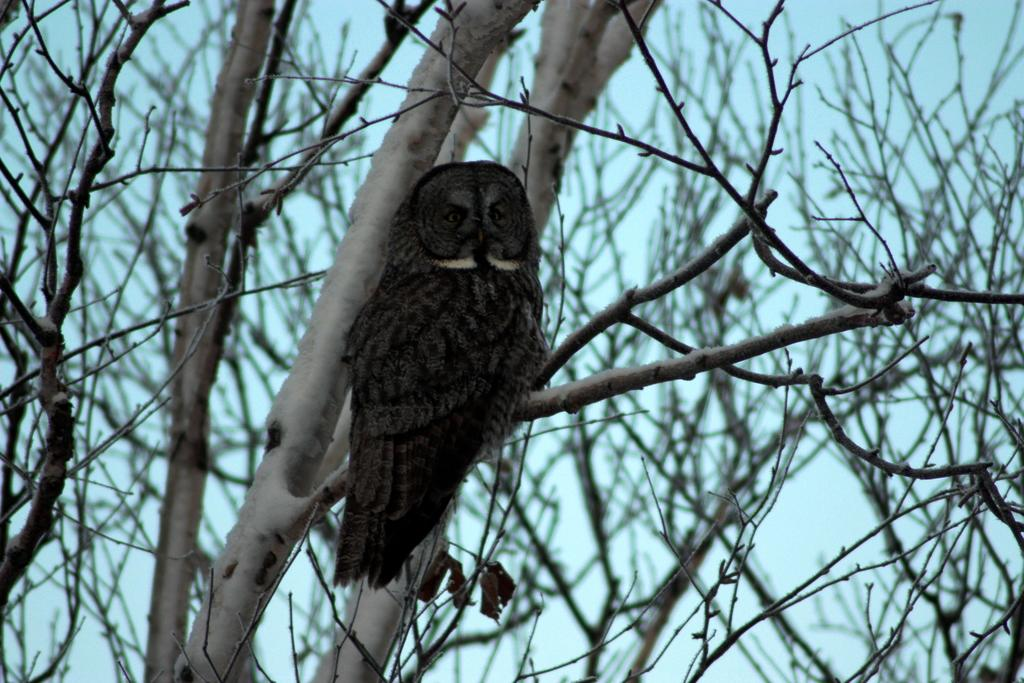Owl: (328, 162, 532, 598)
